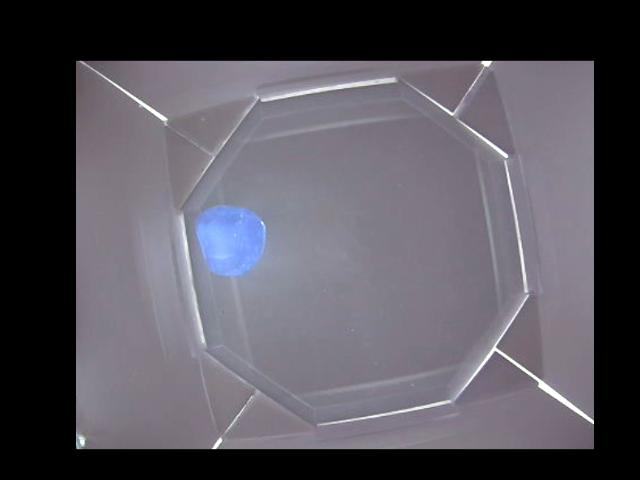Potato: (200, 206, 267, 273)
